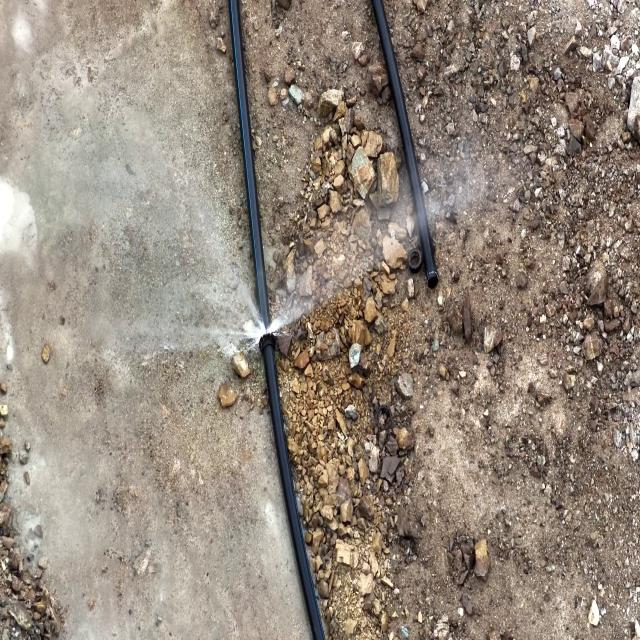leak: (138, 195, 483, 366)
